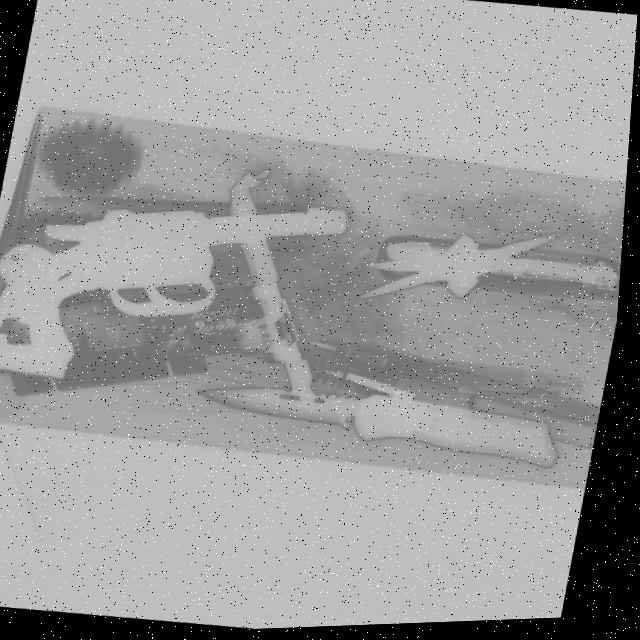knife: (191, 367, 576, 486)
pistol: (0, 168, 355, 417)
